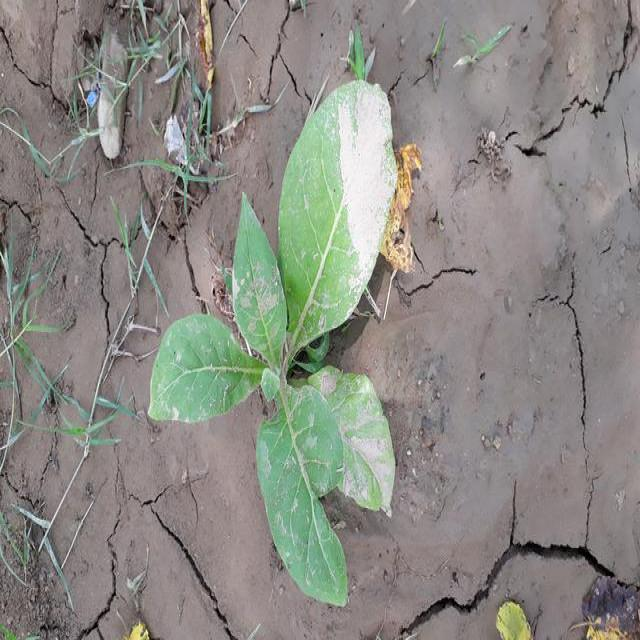crop: (149, 80, 395, 608)
